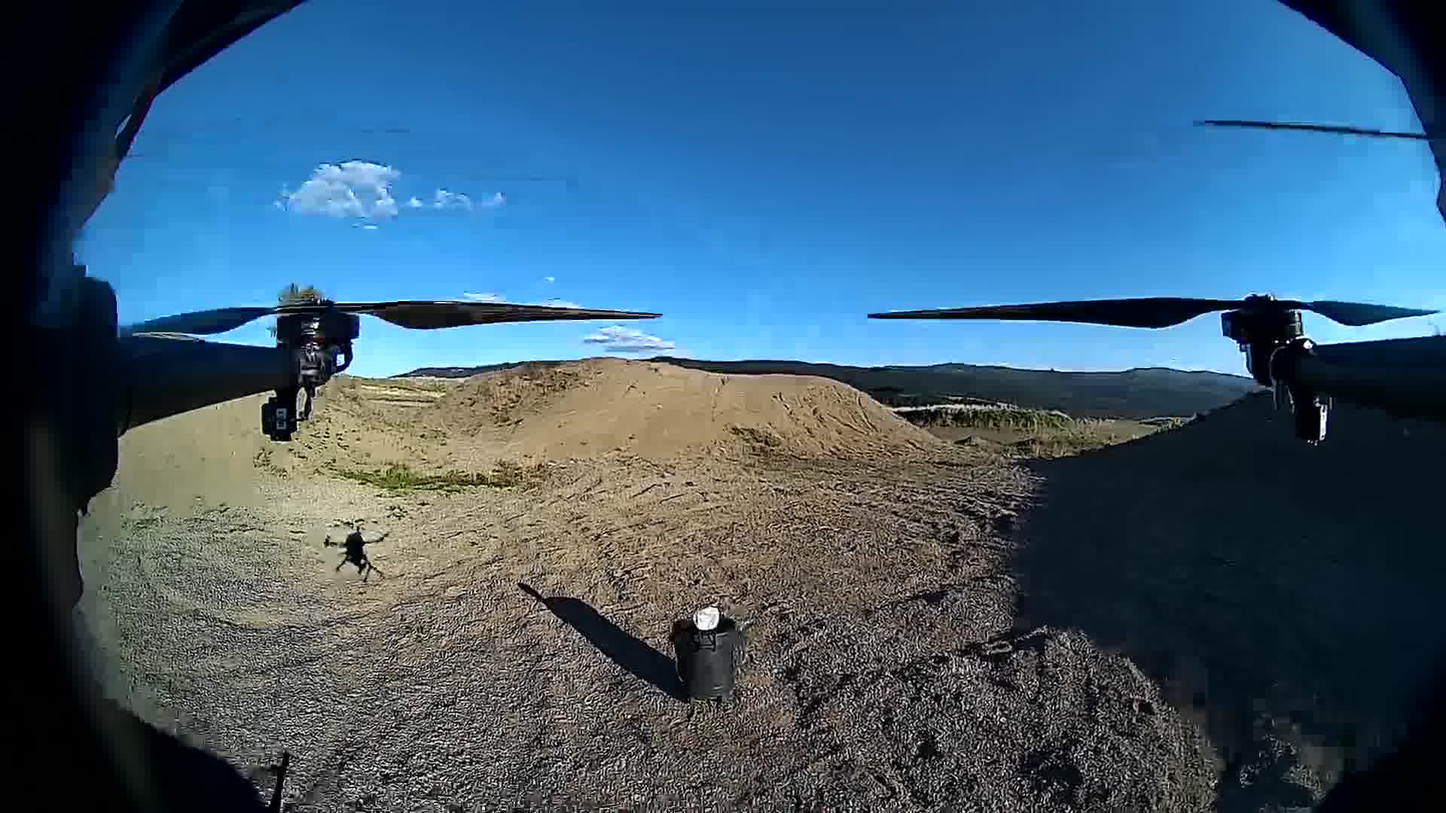Target: (693, 603, 721, 631)
